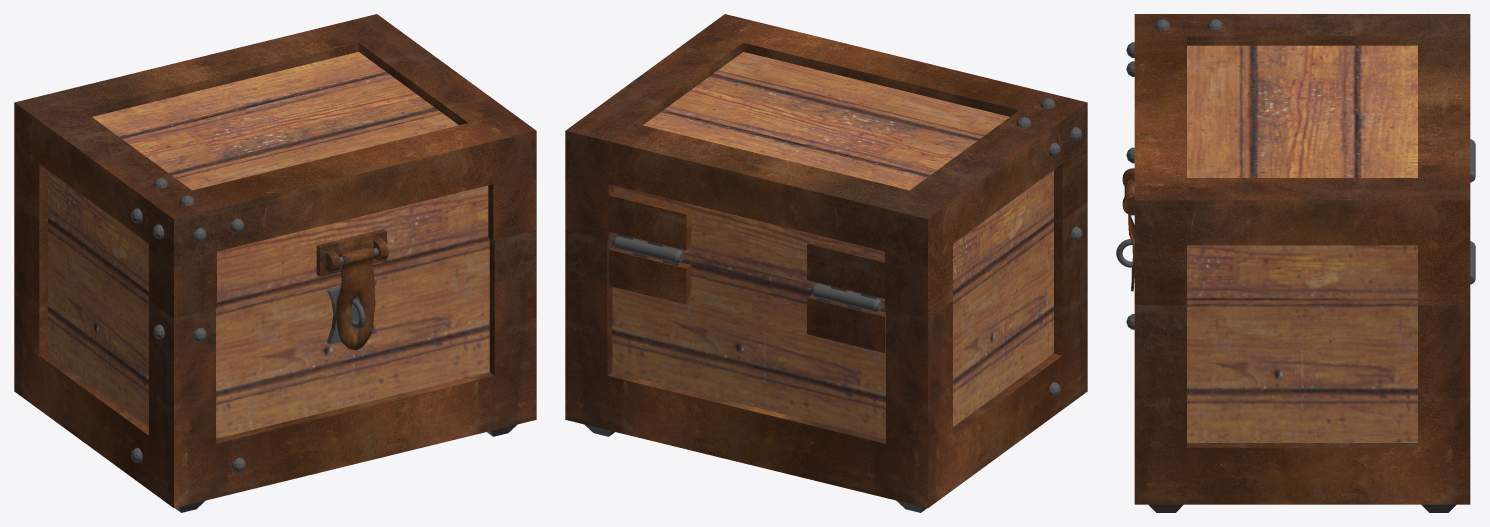
Rendered from chest-1.glb.
3 renders of one model, left to right at view 1: azimuth 30°, elevation 25°; view 2: azimuth 150°, elevation 25°; view 3: azimuth 270°, elevation 25°, orthographic. The views are drawn at different scales.
Parts seen in each view (by area): view 1: Cube.004, Cube.005, Cube, Cube.001, Plane, Cylinder, Cube.007, Icosphere.004; view 2: Cube.004, Cube.005, Cube, Cube.001, Cube.003, Cube.002, Cylinder, Cylinder.001, Icosphere.004; view 3: Cube.004, Cube.001, Cube.005, Cube, Cylinder, Icosphere.004, Plane.
Boxes of the visible parts, x1=… form: Cube.004: x1=14, y1=14, x2=536, y2=318; Cube.005: x1=14, y1=202, x2=536, y2=508; Cube: x1=48, y1=218, x2=489, y2=438; Cube.001: x1=48, y1=52, x2=488, y2=302; Plane: x1=335, y1=246, x2=375, y2=350; Cylinder: x1=131, y1=279, x2=517, y2=512; Cube.007: x1=316, y1=229, x2=386, y2=276; Icosphere.004: x1=130, y1=177, x2=243, y2=242; Cube.004: x1=565, y1=14, x2=1087, y2=318; Cube.005: x1=565, y1=202, x2=1087, y2=508; Cube: x1=612, y1=218, x2=1053, y2=438; Cube.001: x1=613, y1=52, x2=1053, y2=302; Cube.003: x1=608, y1=192, x2=884, y2=298; Cube.002: x1=608, y1=246, x2=885, y2=352; Cylinder: x1=584, y1=226, x2=1082, y2=512; Cylinder.001: x1=614, y1=234, x2=878, y2=311; Icosphere.004: x1=1016, y1=97, x2=1082, y2=157; Cube.004: x1=1134, y1=14, x2=1470, y2=304; Cube.001: x1=1187, y1=45, x2=1417, y2=300; Cube.005: x1=1134, y1=305, x2=1470, y2=504; Cube: x1=1187, y1=300, x2=1417, y2=442; Cylinder: x1=1116, y1=147, x2=1475, y2=512; Icosphere.004: x1=1126, y1=19, x2=1222, y2=76; Plane: x1=1124, y1=178, x2=1134, y2=291.
Size of the model in its own units: 4.29 by 3.47 by 3.42.
4 materials, 3 textured.
